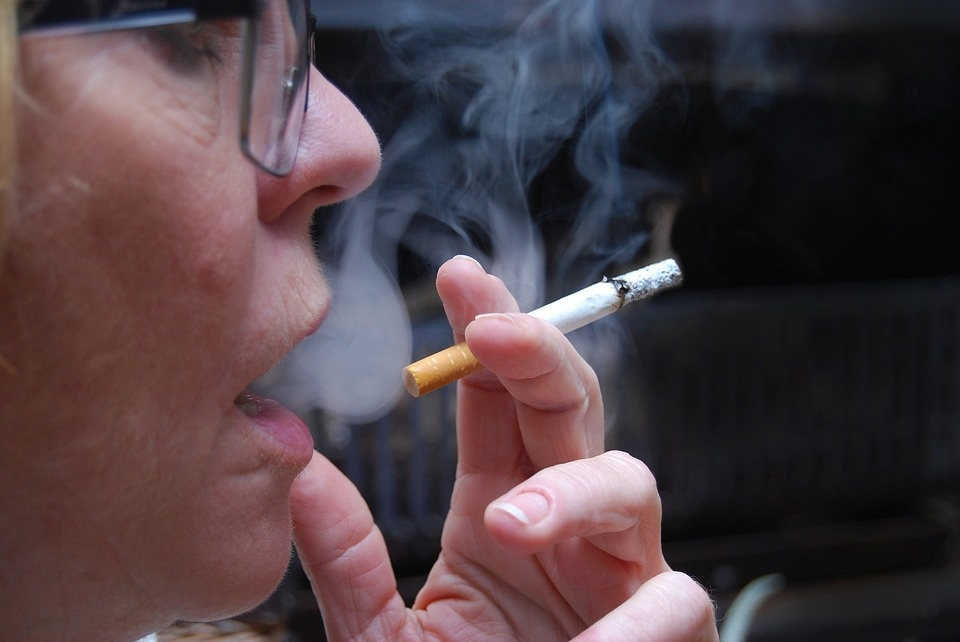sigaretta: (404, 259, 671, 395)
